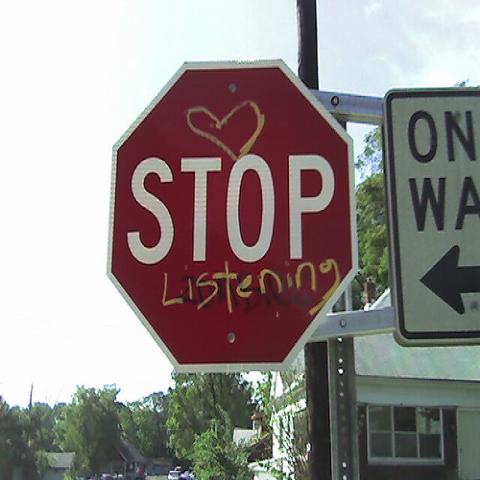car: (167, 470, 180, 479), (181, 471, 193, 479), (100, 473, 113, 479), (174, 468, 183, 476)
